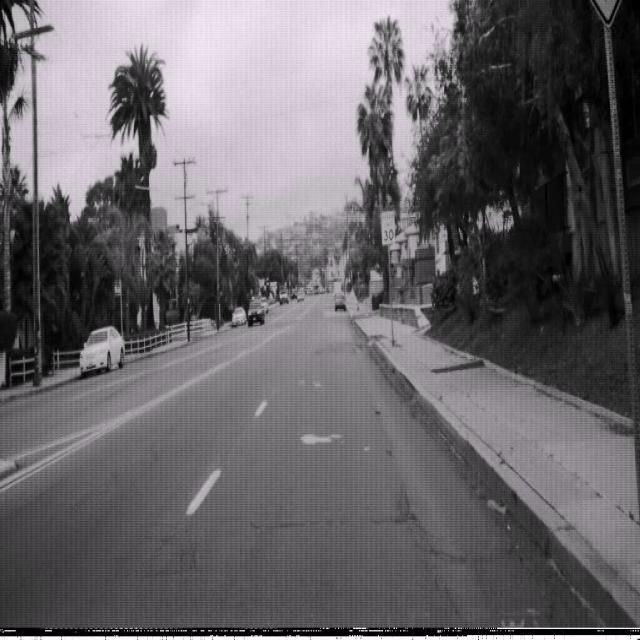speedLimit30: (380, 208, 396, 246)
